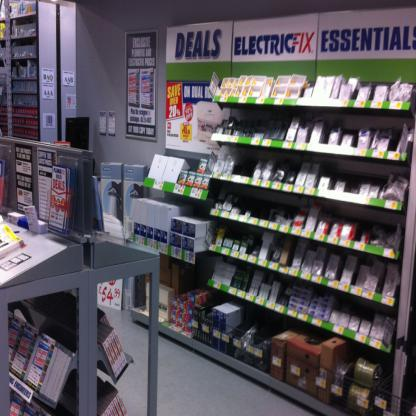book: (6, 310, 78, 401), (98, 308, 126, 376), (47, 166, 73, 234), (96, 374, 126, 416)
